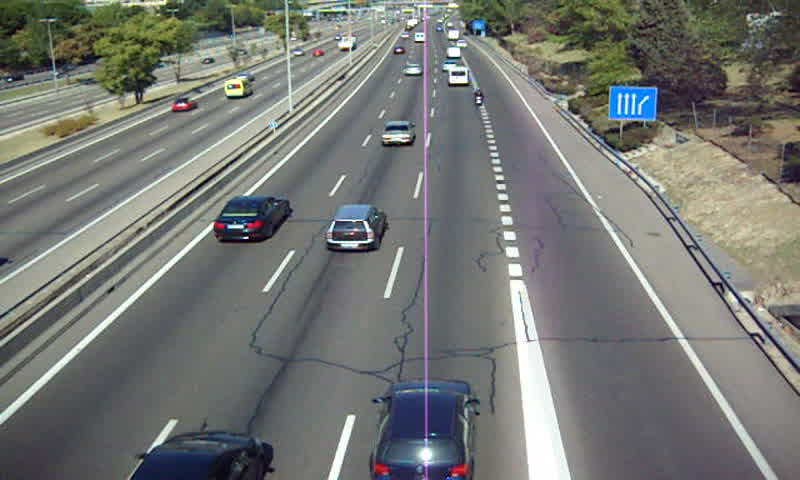car: (372, 380, 473, 480), (214, 196, 289, 240), (323, 204, 385, 251), (380, 121, 414, 147), (404, 62, 422, 76)
motorcycle: (473, 87, 486, 106)
van: (448, 66, 469, 87), (448, 48, 463, 59)
